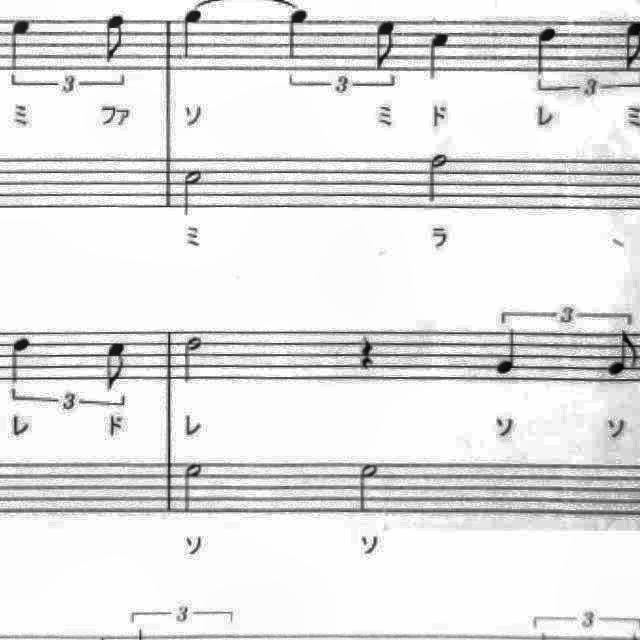Eighth-note: (368, 15, 406, 74), (100, 10, 136, 70), (98, 334, 134, 394), (602, 326, 640, 382), (619, 15, 640, 76), (639, 15, 640, 76)
Half-note: (349, 458, 386, 518), (423, 146, 455, 210), (177, 458, 210, 518), (177, 162, 210, 220), (176, 331, 208, 389)
Quarter-note: (5, 12, 40, 80), (280, 4, 316, 66), (490, 324, 528, 381), (176, 3, 212, 63), (420, 26, 456, 86), (528, 20, 564, 80), (3, 330, 37, 388)
Quarter-rest: (350, 326, 382, 374)
